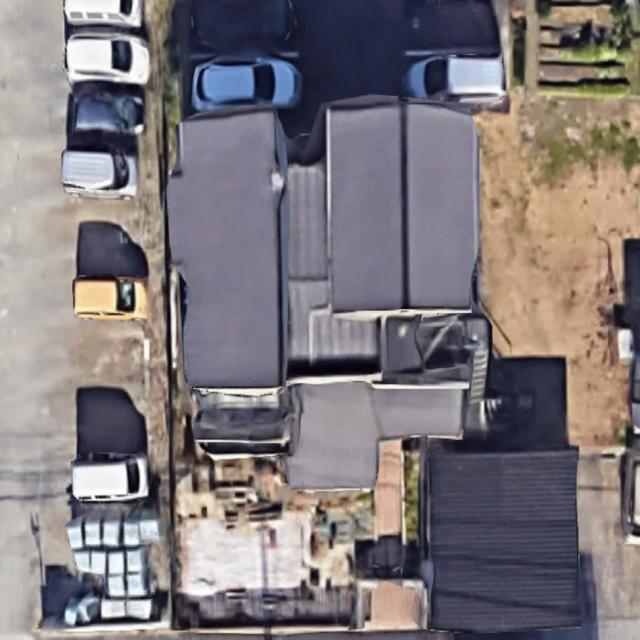Batiment: (168, 99, 479, 388)
